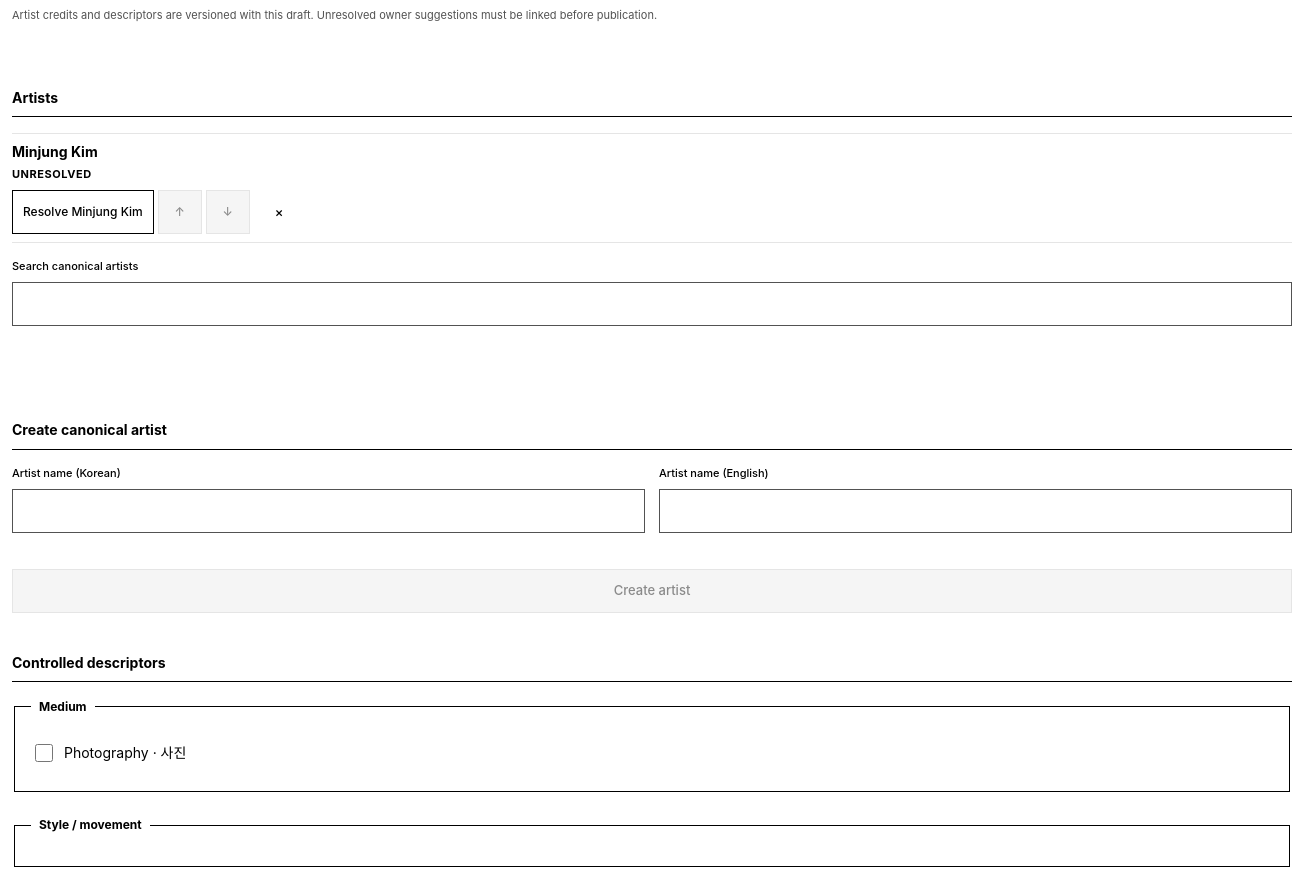
Test: ExhibitionArtMetadataEditor › searches and replaces an unresolved suggestion with a canonical artist
This screenshot has width=1304, height=892.
Click the button "Resolve Minjung Kim": coordinates (83, 212) x1=12 y1=190 x2=154 y2=234
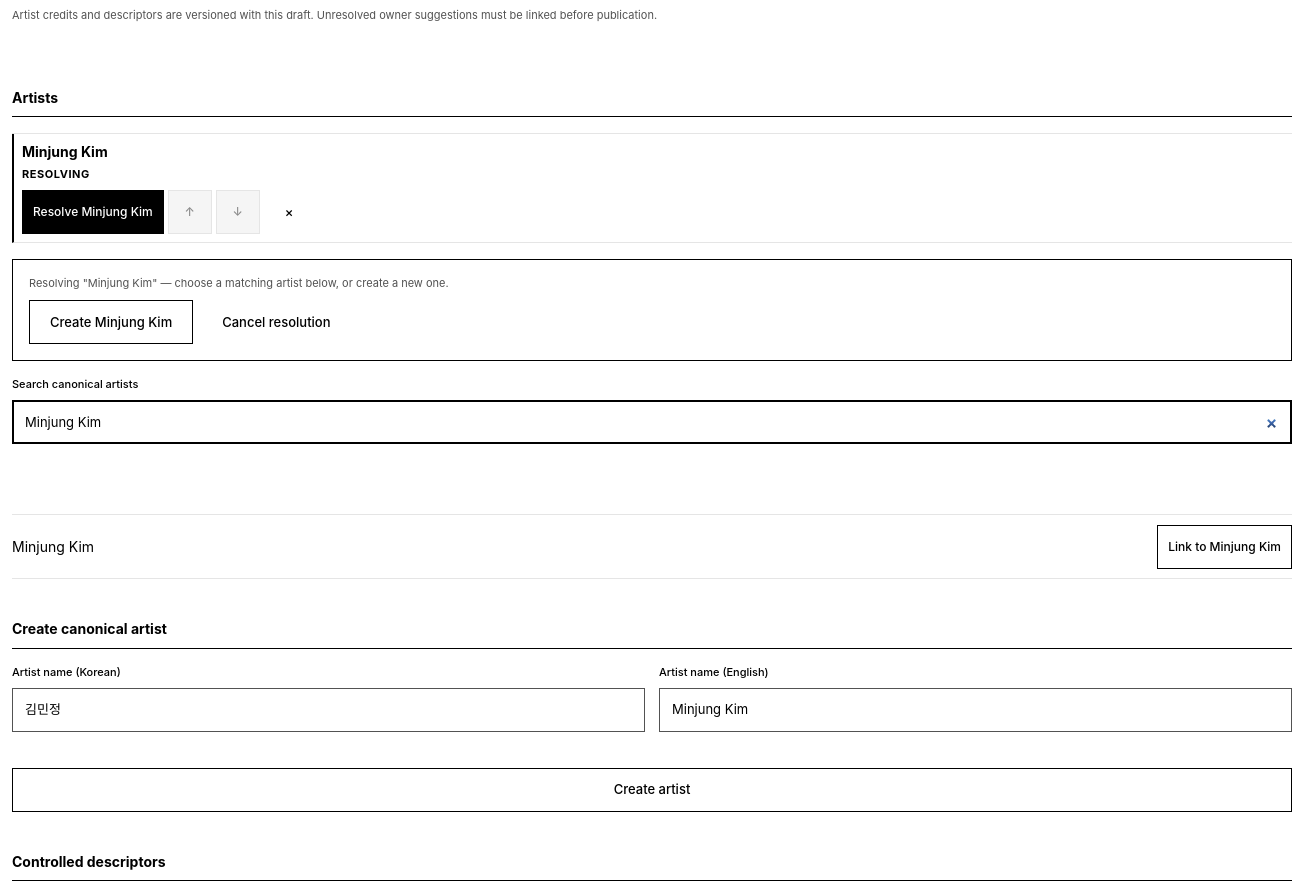
Now the search field holds "Minjung Kim", box x1=12 y1=400 x2=1292 y2=444
Now the text "Resolving \"Minjung Kim\" — choose a matching artist below, or create a new one." is shown, box x1=29 y1=276 x2=449 y2=290
Now the text "RESOLVING" is shown, box x1=22 y1=166 x2=90 y2=180
Click the button "Link to Minjung Kim": coordinates (1225, 547) x1=1157 y1=525 x2=1292 y2=569
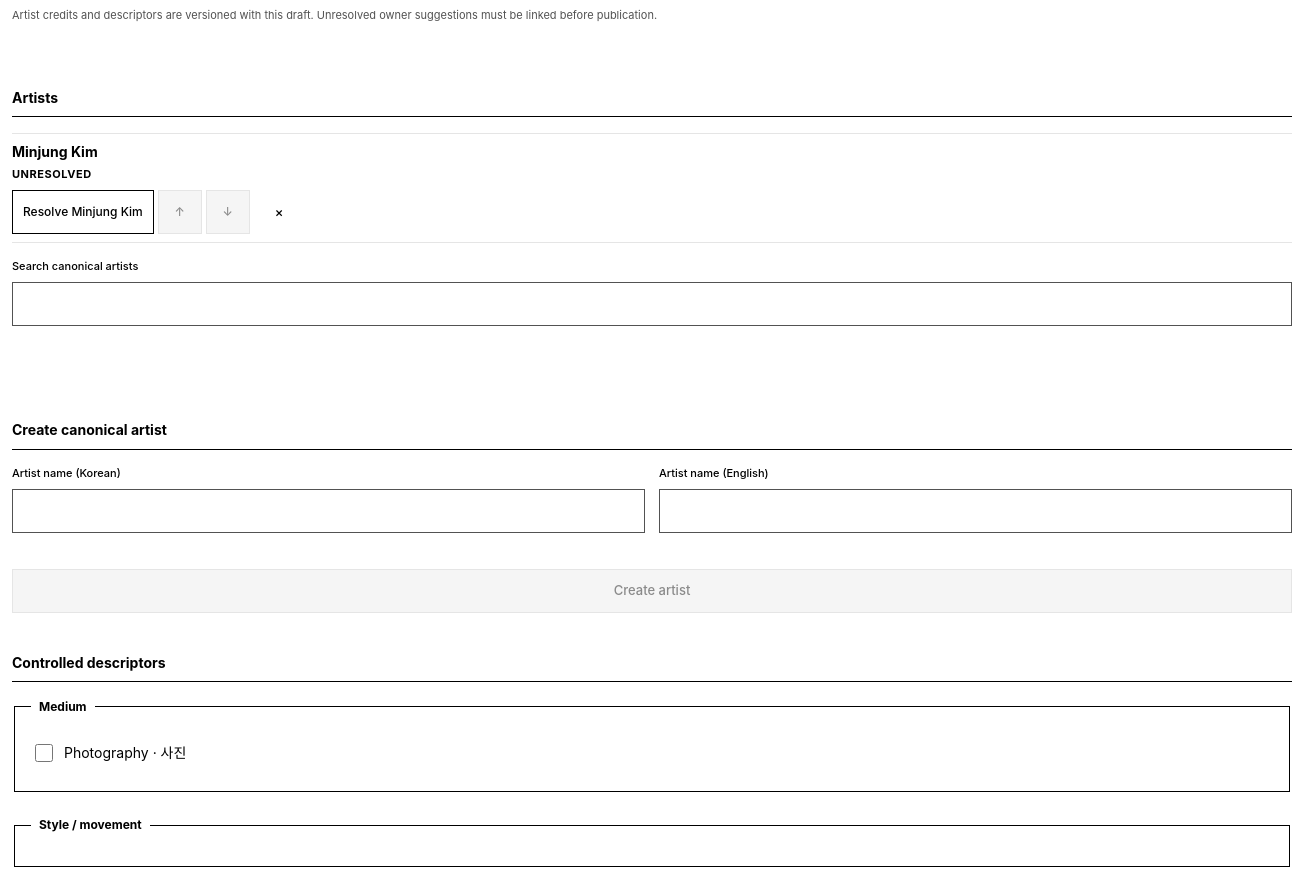
Now the button "Cancel resolution" is gone
Now the search field is empty, box x1=12 y1=282 x2=1292 y2=326
